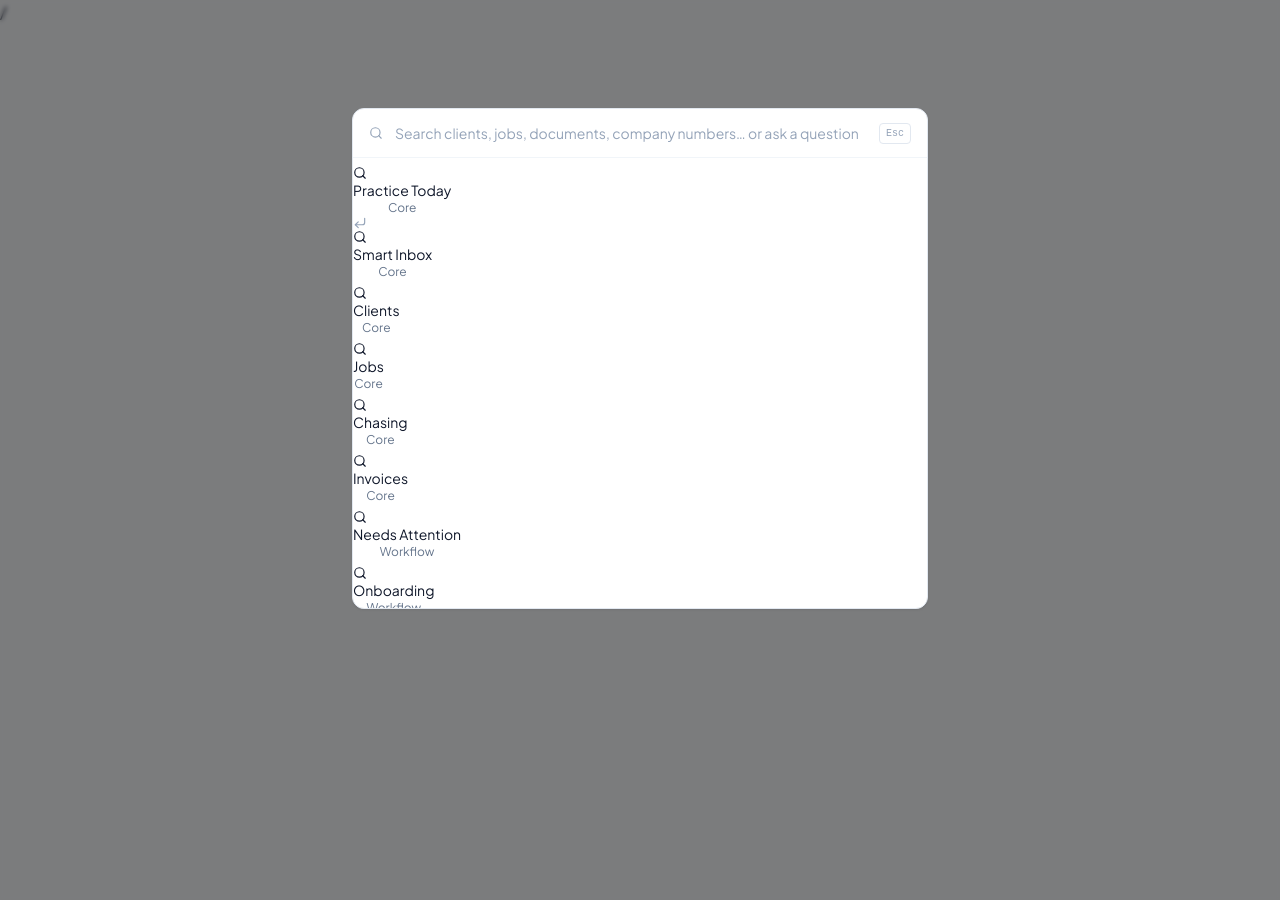
CommandPalette › runs the first match for what was typed on Enter, even when a stationary mouse sits over the list
Type "abc" into the field with test id "command-input" at {"x": 631, "y": 133}, box [395,109,867,157]
(page scrolled)
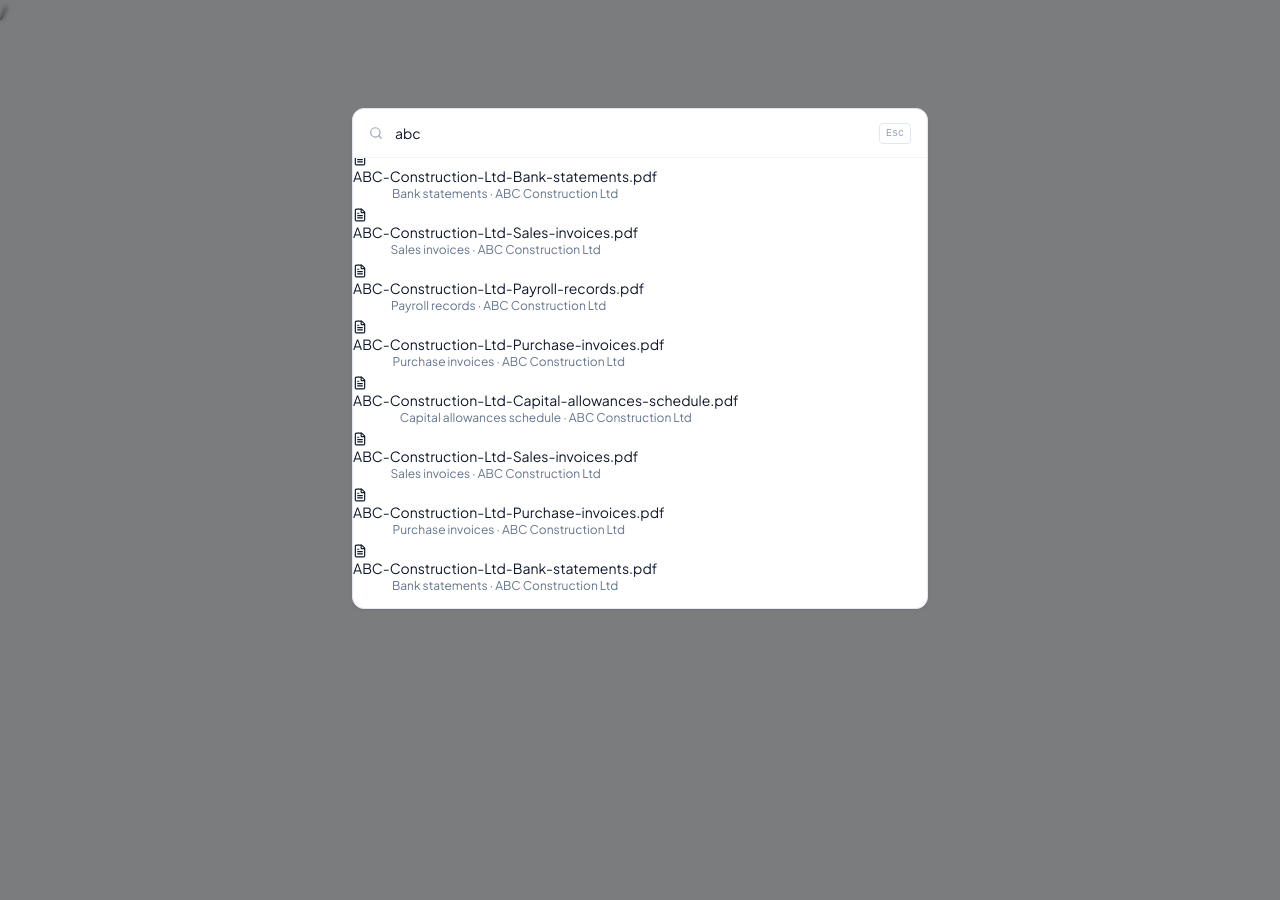
Hover over the 8th button at {"x": 505, "y": 569}, box [353,544,657,594]
(page scrolled)
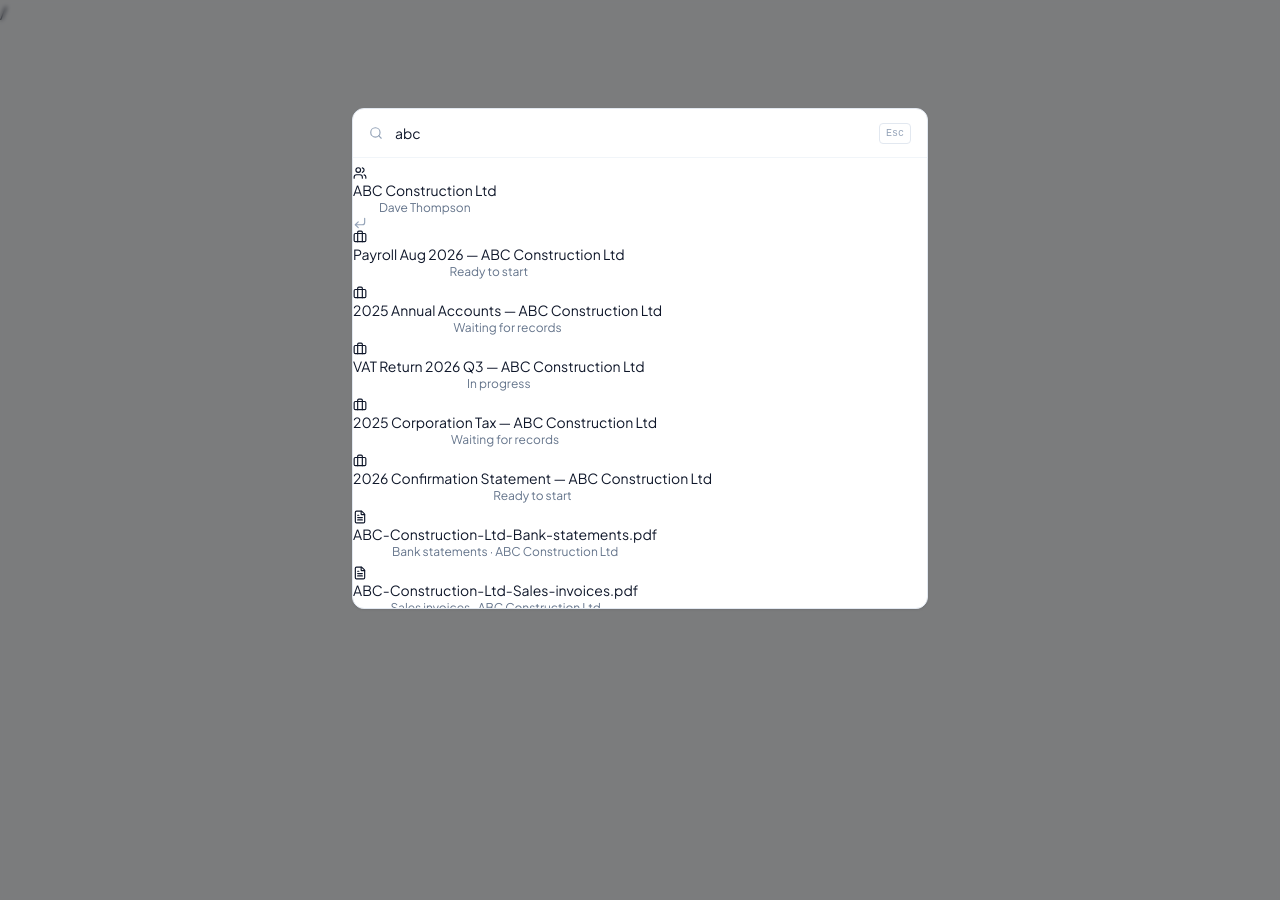
Now the option "ABC Construction Ltd Dave Thompson" is selected, box [353,166,497,230]
Press Enter
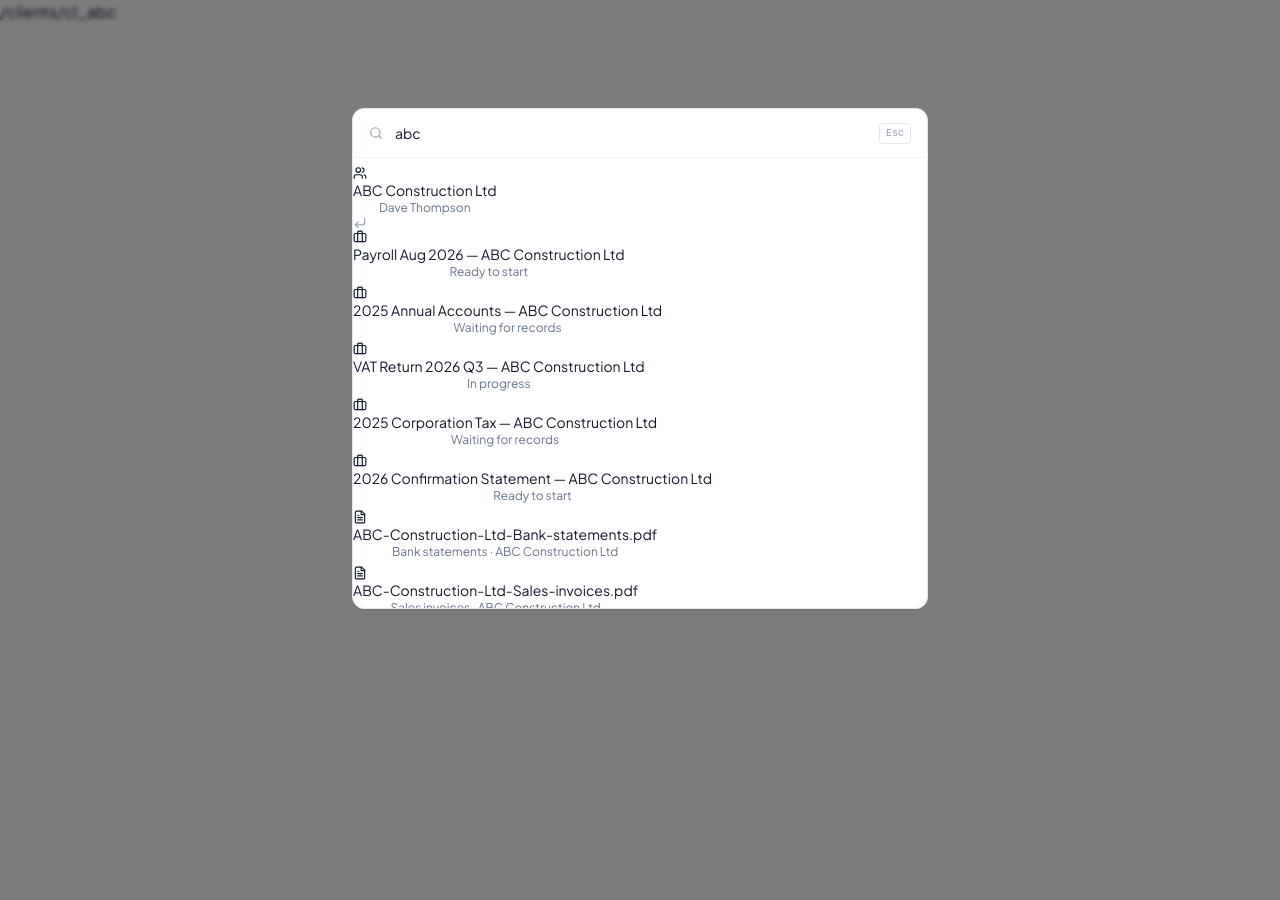
Now the text with test id "location" reads "/clients/cl_abc", box [0,1,116,22]
